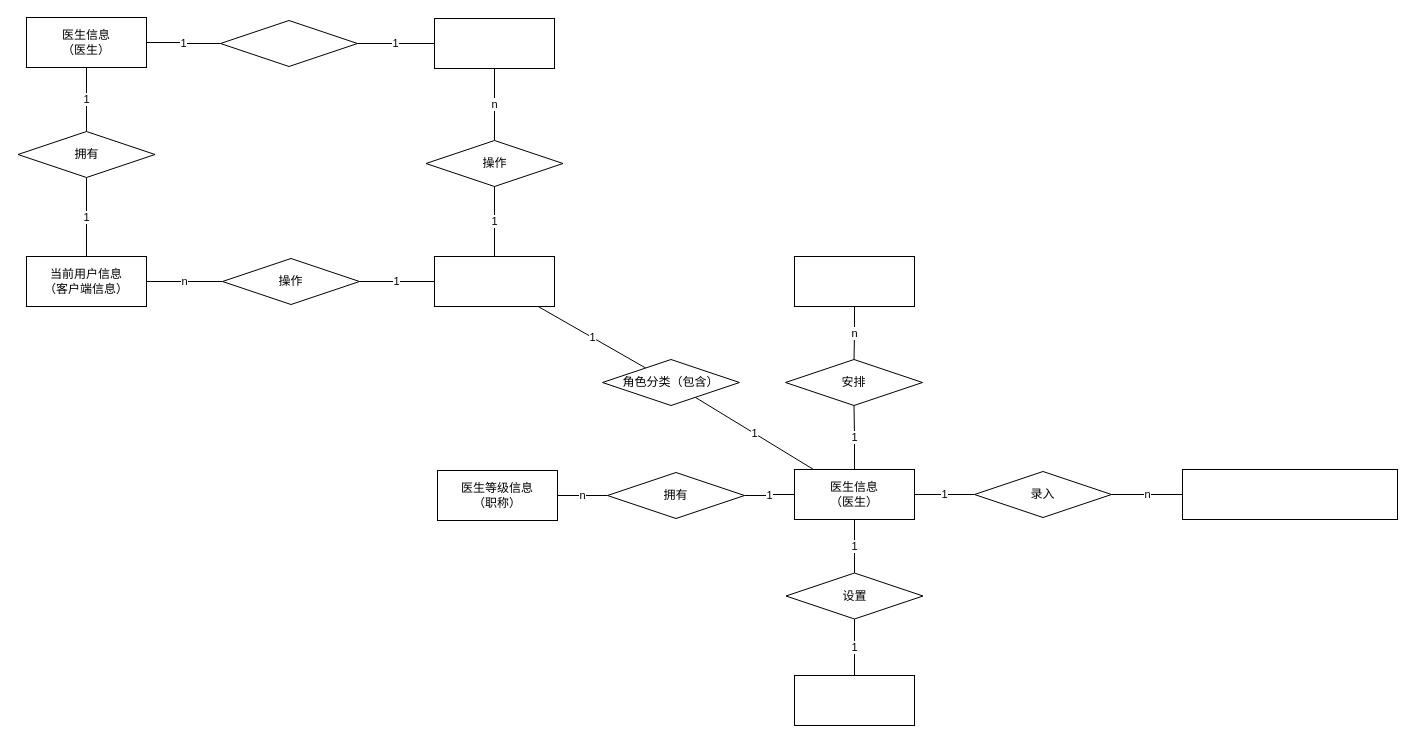
Some shapes in this 1415 by 743 pixel diagram are drawn without their labels. Each missing label, with the centre of its shape:
全局设置 （系统参数）: the point at 854,700
医生注册类型 （门诊医生日排班）: the point at 494,43
用户信息-超级管理员 （用户）: the point at 494,281
申请（被）排班: the point at 289,43
病人投标信息 （病人照管）: the point at 854,281
签约登记 （病人签约信息表，医务通APP接口）: the point at 1290,494
